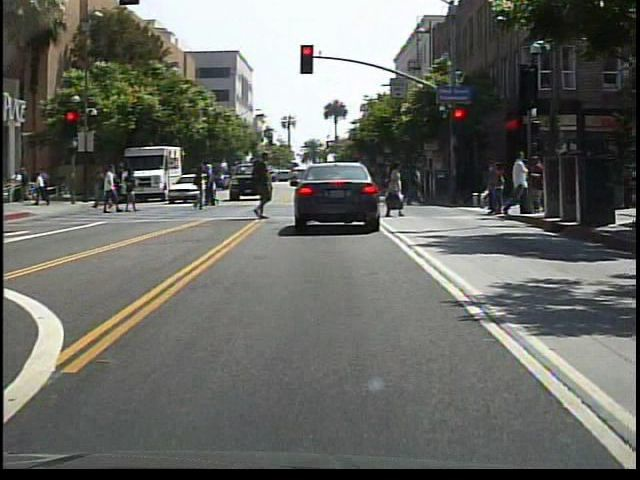person: (247, 149, 280, 224), (500, 149, 531, 219), (383, 161, 406, 219), (103, 164, 126, 217), (89, 165, 112, 213), (192, 167, 209, 214), (204, 165, 222, 209), (124, 168, 139, 214)
